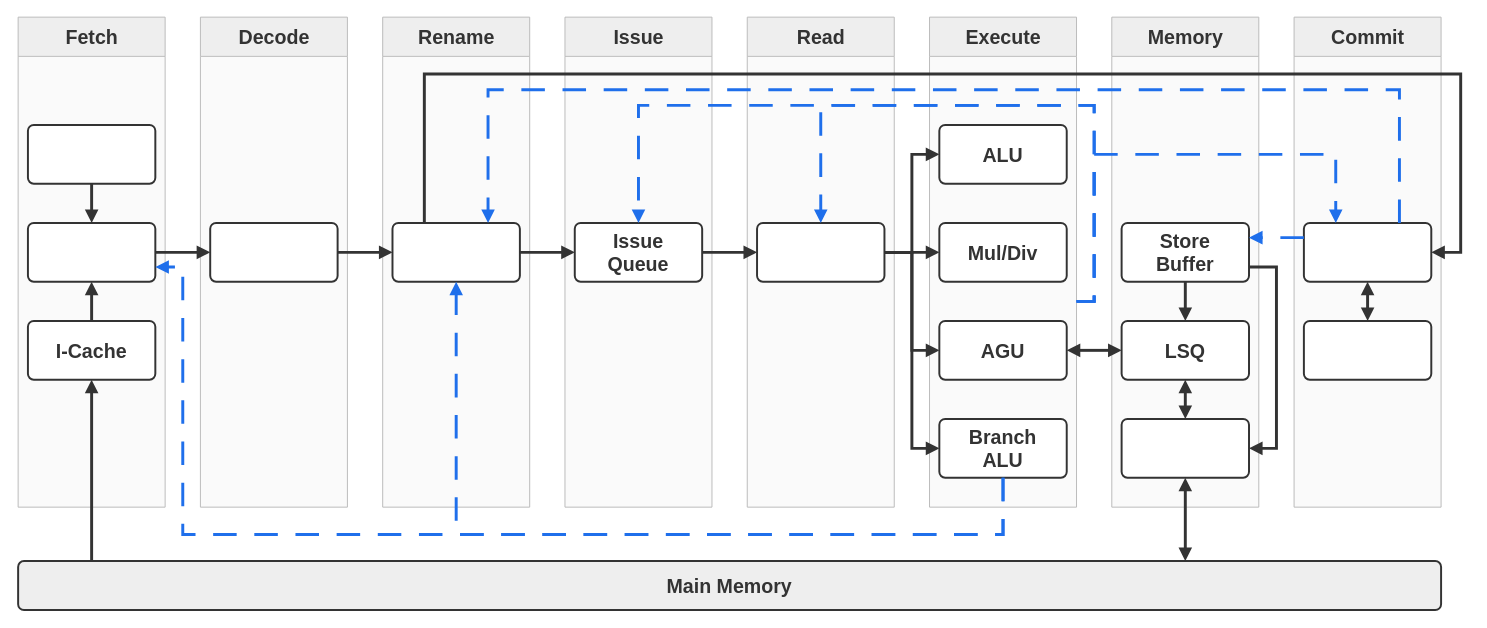
The diagram is 1487 pixels wide and 628 high, and some of its shapes have lost their labels. Here are the shapes that lost their labels. From the top down, the centre of each, then its label:
At (91,153): "Predictor".
At (91,251): "Fetch Buffer".
At (273,251): "Decoder".
At (455,251): "Map Table".
At (820,251): "Register File".
At (1367,251): "ROB".
At (1367,349): "CSR".
At (1185,447): "D-Cache".
